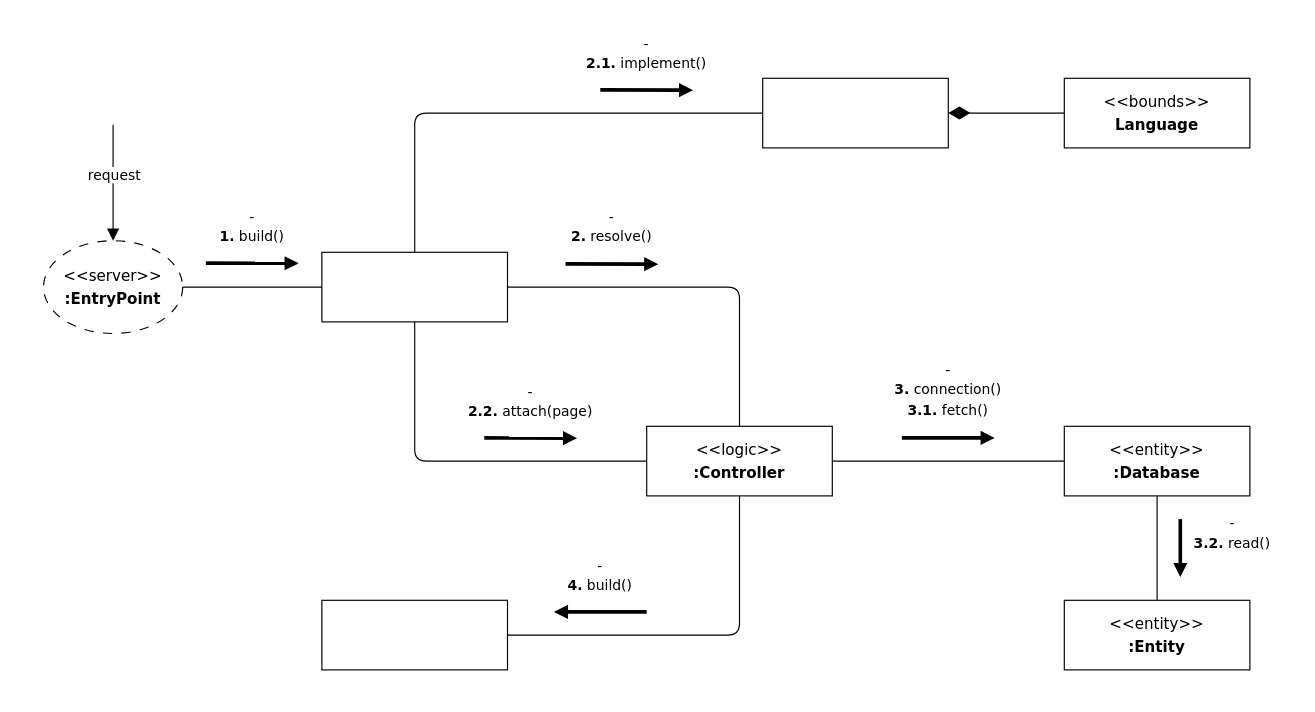
This 1315x712 diagram has some shape labels left out. Here are the shapes that lost their labels. From the top down, the box of each, then its label:
(762, 77, 948, 148): <<bounds>> :Page
(321, 251, 507, 322): <<logic>> :Core
(321, 599, 507, 670): <<bounds>> :Response
